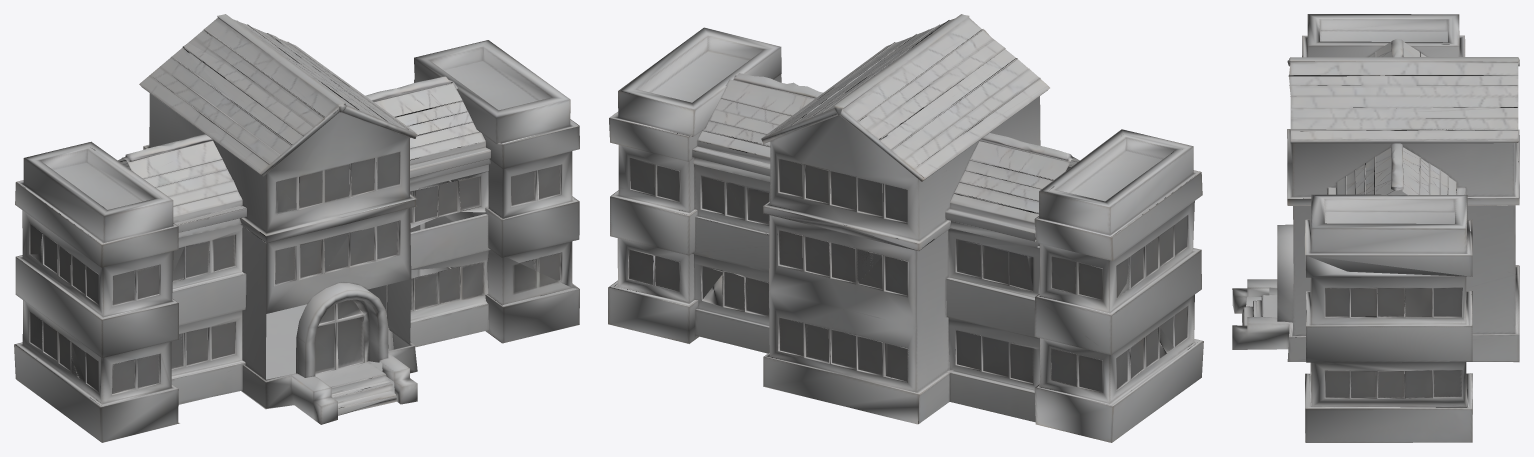
The model's file is 31-school-building.glb.
3 renders of one model, left to right at view 1: azimuth 30°, elevation 25°; view 2: azimuth 150°, elevation 25°; view 3: azimuth 270°, elevation 25°, orthographic. The views are drawn at different scales.
Visible parts, largest first — view 1: geometry_0; view 2: geometry_0; view 3: geometry_0.
Boxes of the visible parts, x1,y1,x2,y2 form: geometry_0: (14,14,579,442); geometry_0: (608,14,1203,442); geometry_0: (1232,14,1519,442).
Size of the model in its own units: 0.9561 by 0.5449 by 0.5229.
Materials: 1 (1 with a texture image).
